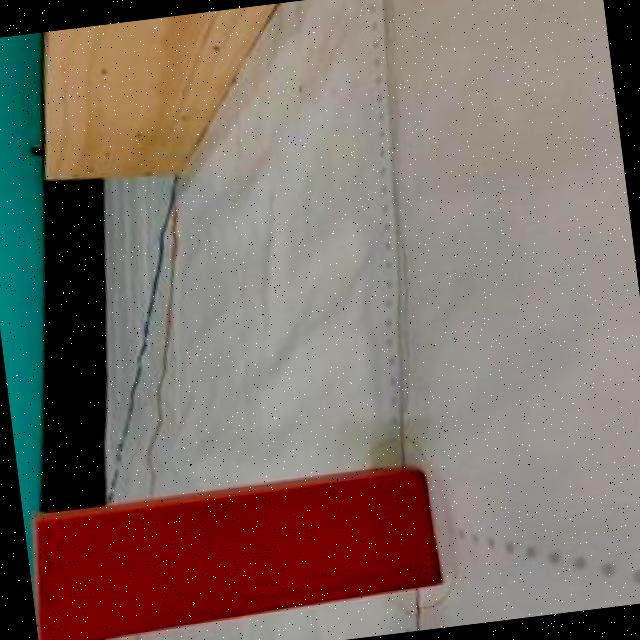redbox: (21, 462, 442, 640)
